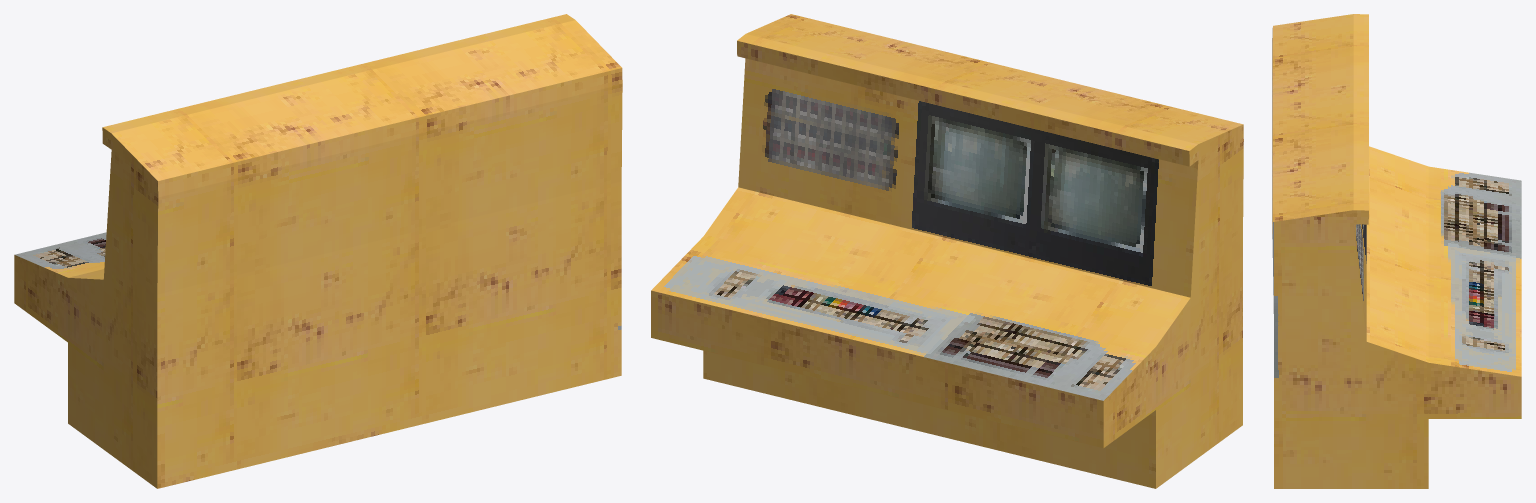
Rendered from soviet_computer.gltf.
The picture shows the model from 3 angles, left to right: view 1: azimuth 30°, elevation 25°; view 2: azimuth 150°, elevation 25°; view 3: azimuth 270°, elevation 25°; orthographic projection. The views are drawn at different scales.
Parts seen in each view (by area): view 1: SovietComputer; view 2: SovietComputer; view 3: SovietComputer.
Boxes of the visible parts, x1=… form: SovietComputer: x1=14, y1=14, x2=622, y2=488; SovietComputer: x1=651, y1=14, x2=1243, y2=488; SovietComputer: x1=1272, y1=14, x2=1521, y2=488.
Bounding box in the file's own units: 3 × 1.99 × 1.61.
Materials: 1 (1 with a texture image).
